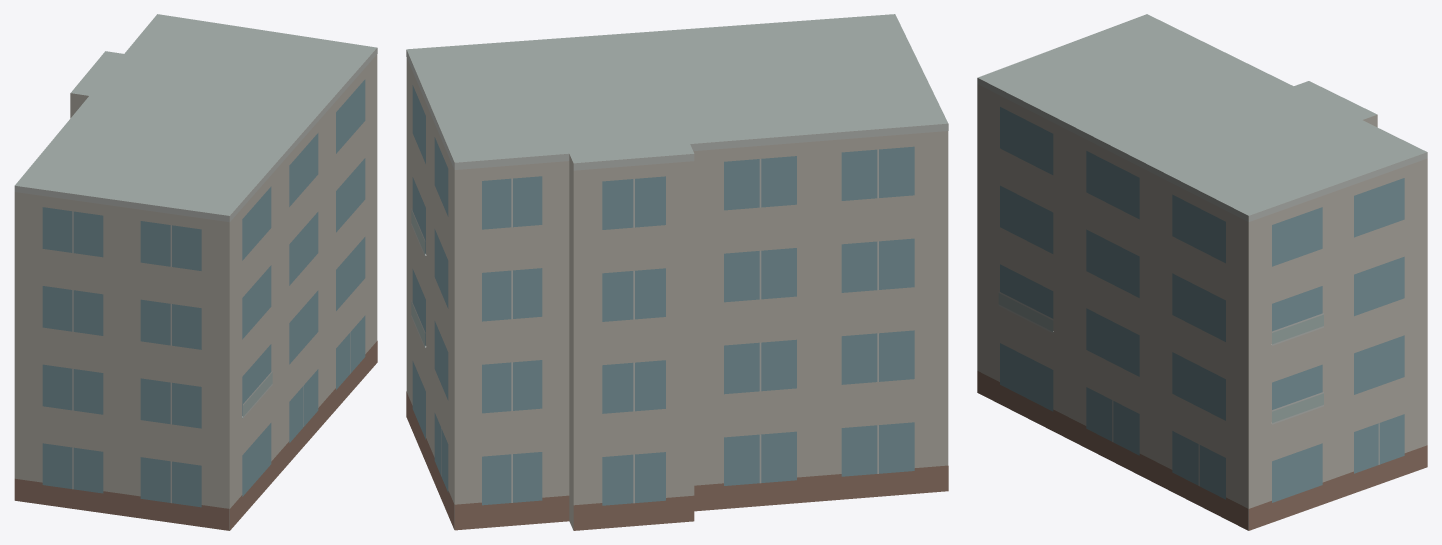
The model's file is survey-upis-33019824.glb.
3 renders of one model, left to right at view 1: azimuth 30°, elevation 25°; view 2: azimuth 150°, elevation 25°; view 3: azimuth 270°, elevation 25°, orthographic. The views are drawn at different scales.
Visible parts, largest first — view 1: survey-upis-33019824.tmp; view 2: survey-upis-33019824.tmp; view 3: survey-upis-33019824.tmp.
Part boxes in pixels (box(x1,y1,x2,y2)): survey-upis-33019824.tmp: box(14, 14, 377, 530); survey-upis-33019824.tmp: box(406, 14, 948, 530); survey-upis-33019824.tmp: box(977, 14, 1427, 530).
Size of the model in its own units: 16.78 by 12.2 by 15.81.
